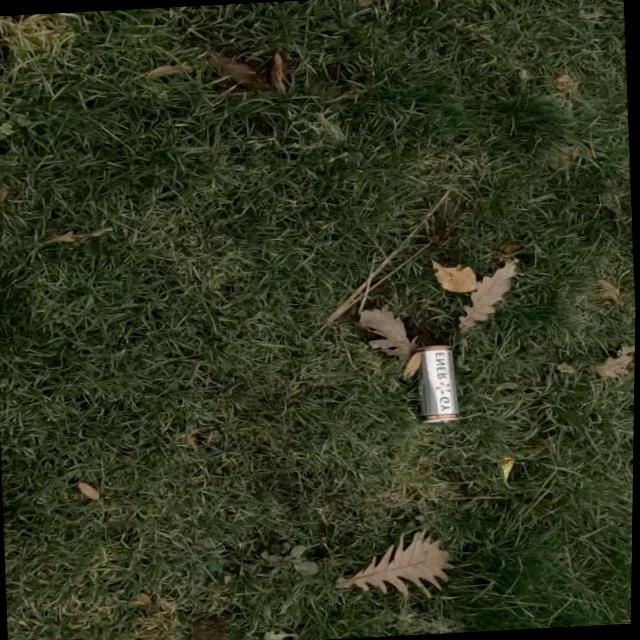Can-Metal: (415, 346, 462, 422)
